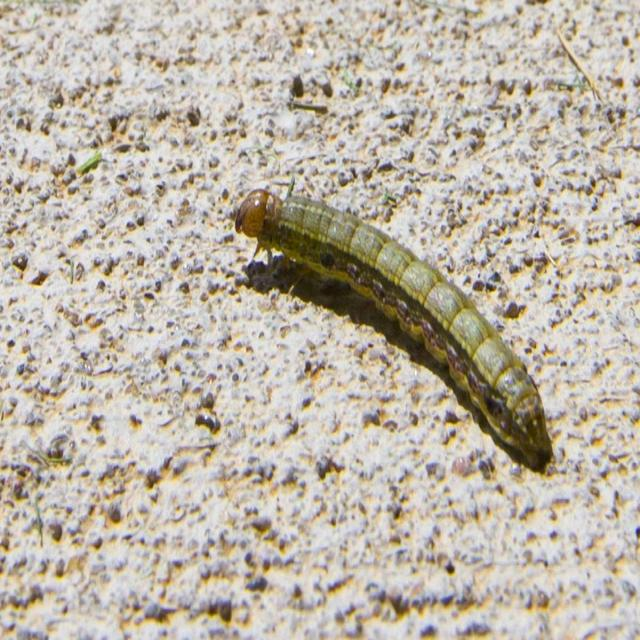pest-armyworm: (232, 183, 556, 477)
